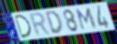4: (97, 4, 110, 29)
8: (63, 9, 79, 33)
D: (13, 15, 33, 40), (44, 10, 64, 35)
M: (75, 7, 98, 31)
R: (29, 11, 52, 38)
